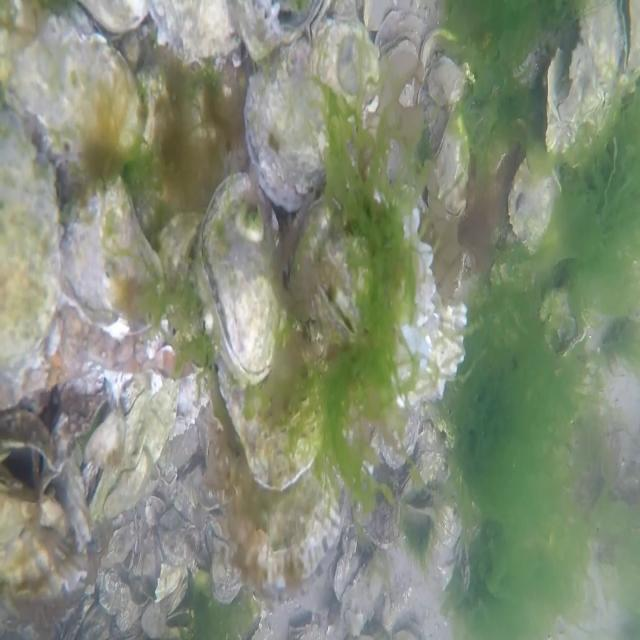Oyster-Closed: (242, 21, 378, 216), (198, 171, 286, 390), (7, 18, 145, 156), (58, 174, 165, 337), (0, 106, 59, 393), (226, 0, 332, 63), (508, 147, 563, 256), (427, 105, 467, 218), (398, 450, 432, 504)
Oyster-Indeterminate: (292, 193, 466, 409), (214, 286, 330, 489), (222, 397, 342, 590), (94, 379, 178, 522), (545, 0, 619, 147), (0, 528, 87, 604), (144, 0, 242, 64), (0, 474, 69, 547), (342, 549, 388, 634), (419, 26, 464, 112), (361, 460, 400, 548), (376, 397, 420, 470), (212, 518, 244, 604)
Oyster-Open: (0, 411, 59, 505), (377, 30, 421, 84), (329, 547, 361, 605), (618, 0, 640, 77), (402, 490, 435, 528)
